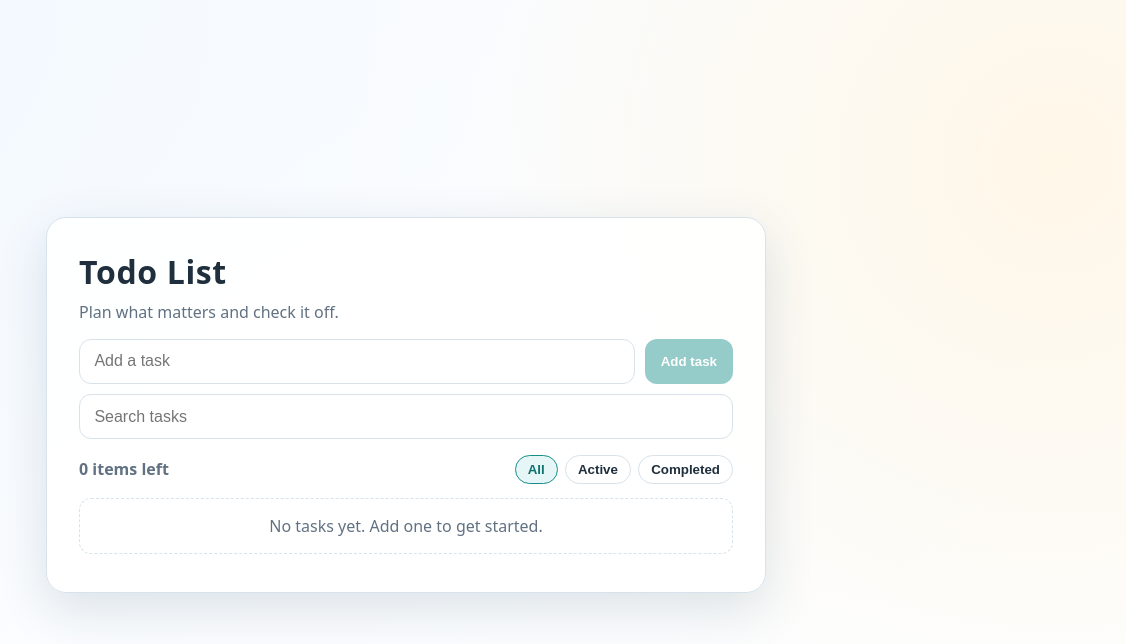
Test: removes a todo item
The image size is (1126, 644).
Type "Read docs" into the field named "new task".
click(357, 361); type("Read docs")  # box [79,339,635,384]
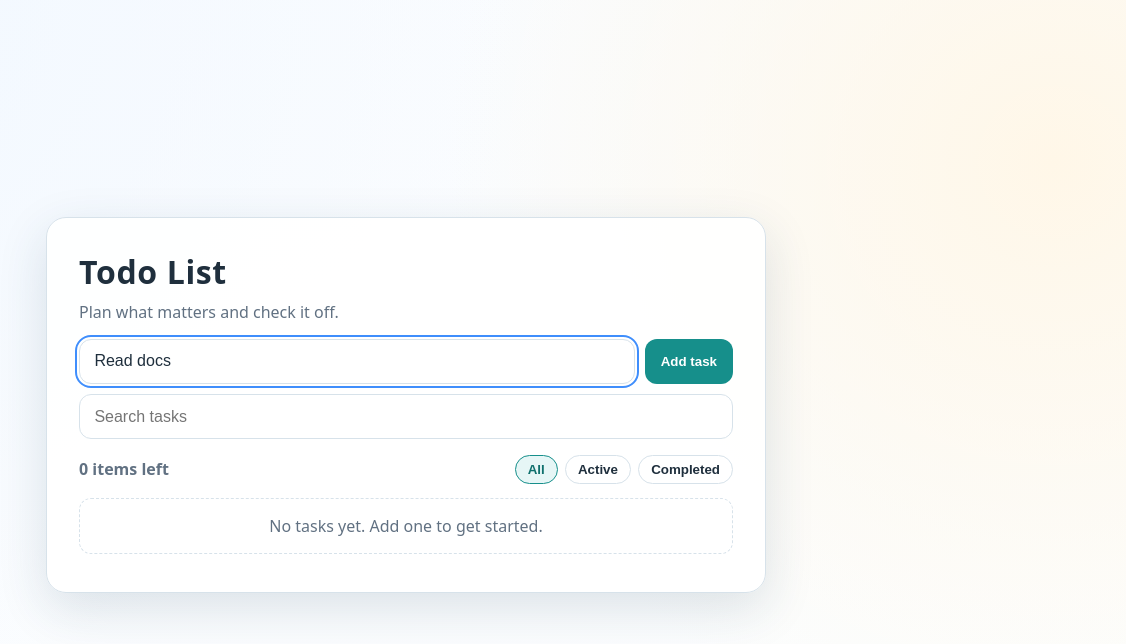
Click the button "Add task".
click(689, 361)  # box [645,339,733,384]
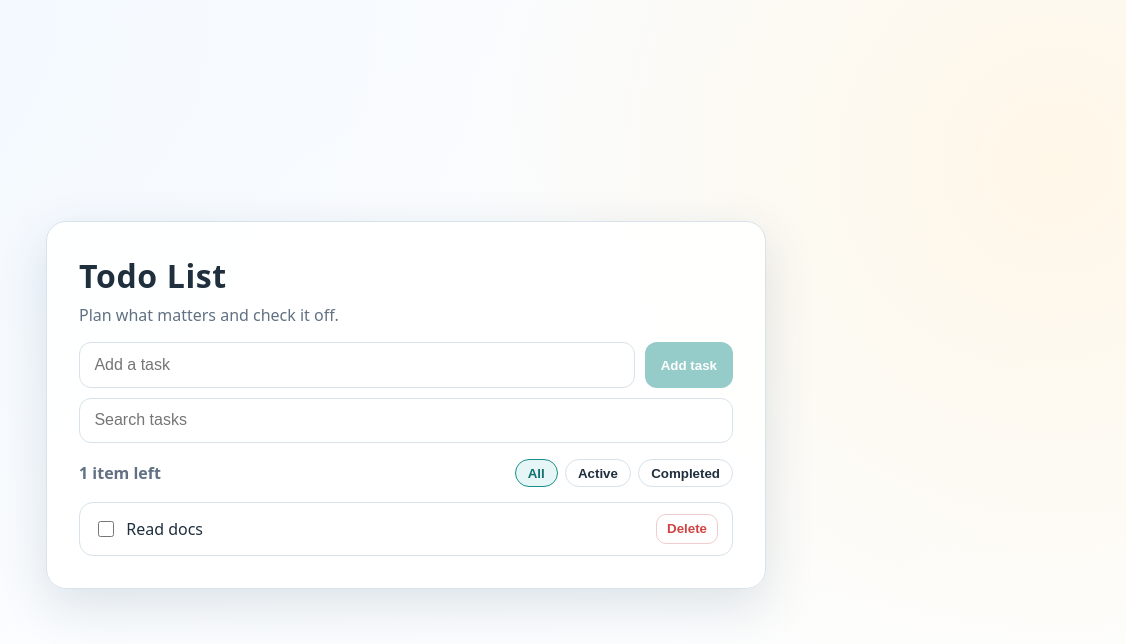
Click the button with aria-label "delete read docs".
click(687, 529)  # box [656,514,718,544]
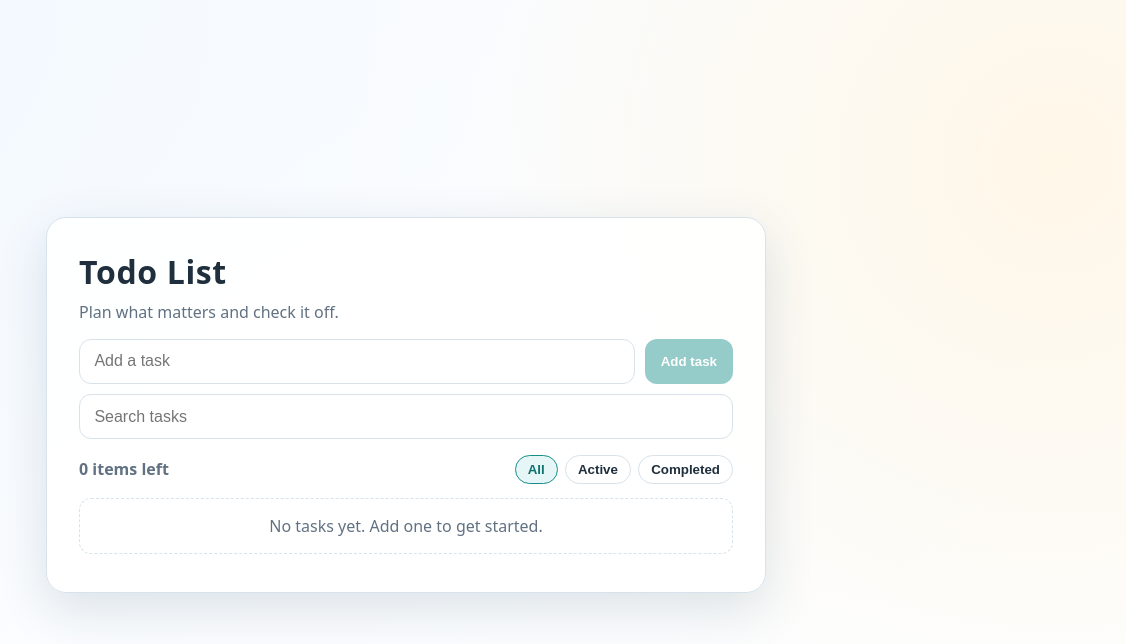
Expected: the text "Read docs" is gone
